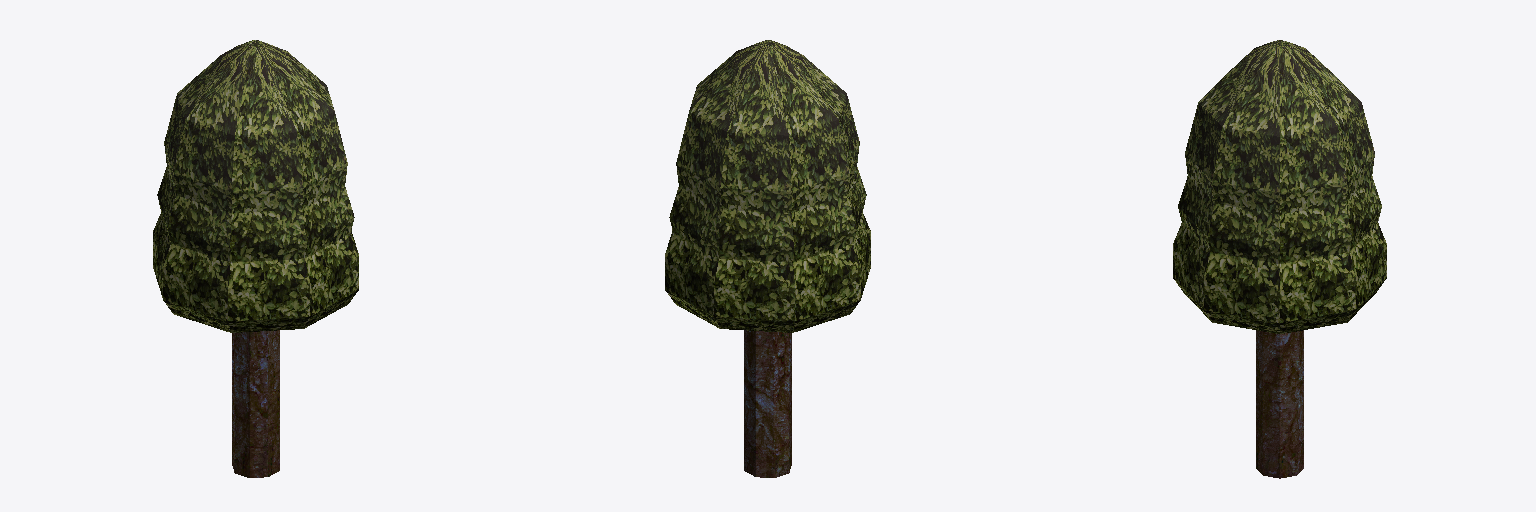
3 views of the same model, side by side, from view 1: azimuth 30°, elevation 25°; view 2: azimuth 150°, elevation 25°; view 3: azimuth 270°, elevation 25° (orthographic).
Bounding box in the file's own units: 8.74 × 19.13 × 8.74.
1 materials, 1 textured.